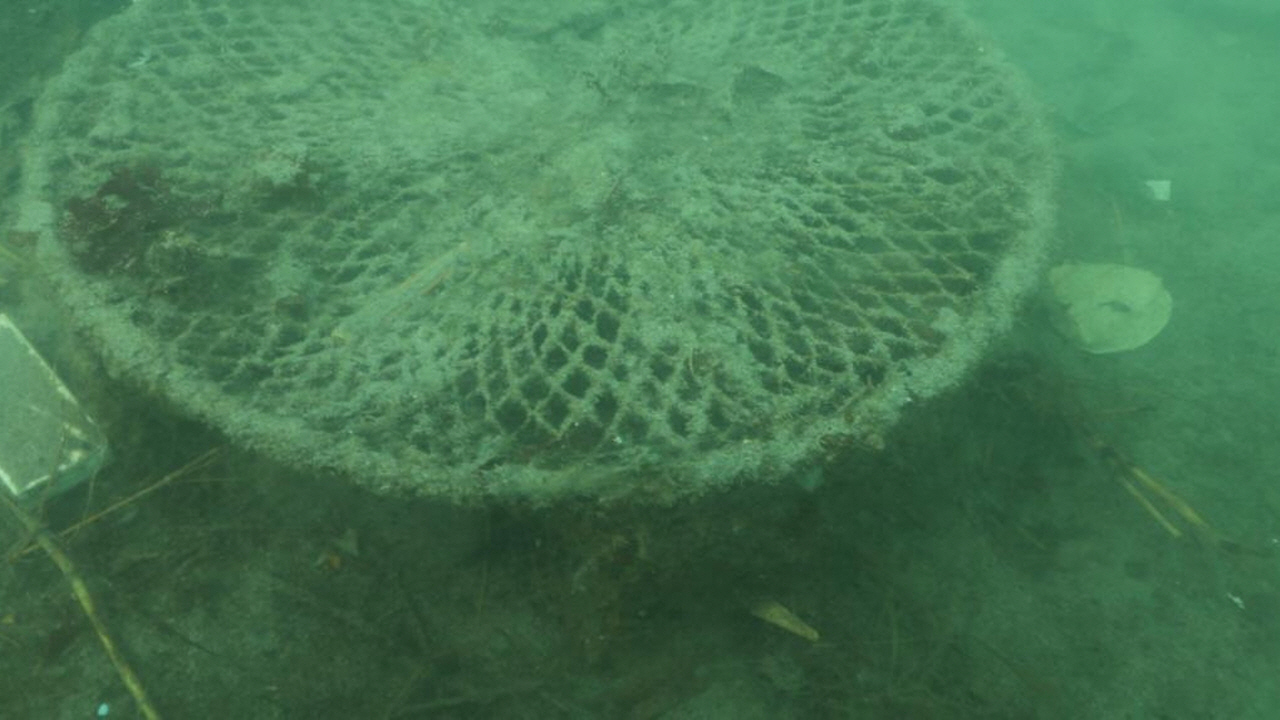circular fish trap: (16, 0, 1059, 495)
